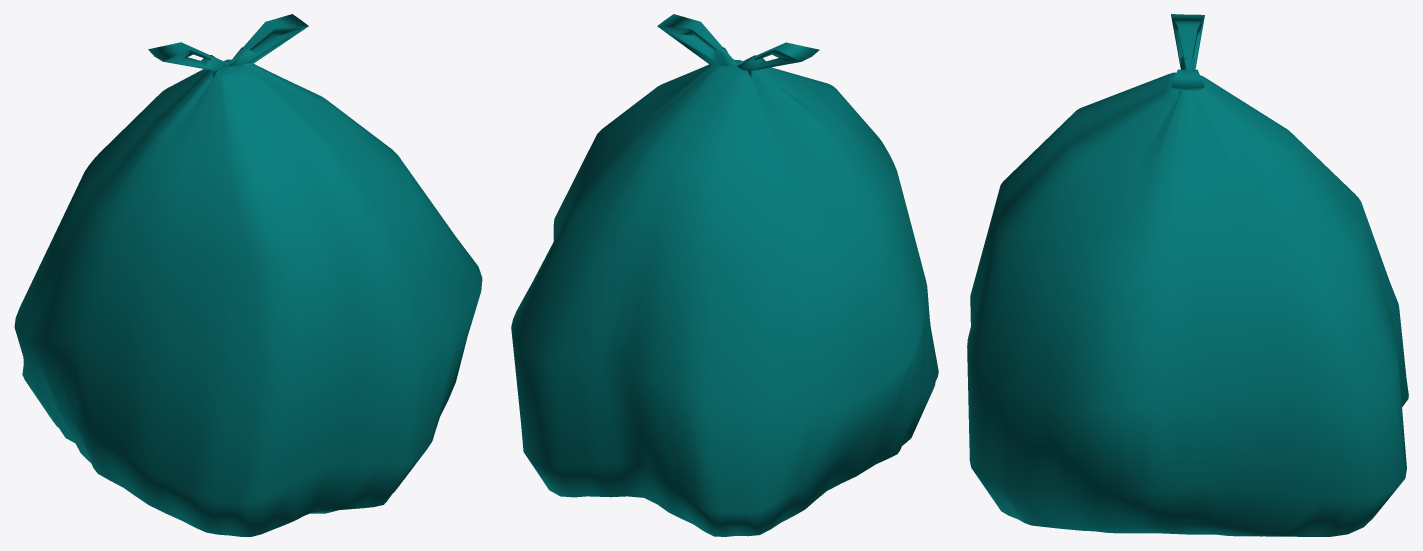
The model's file is BolsaA.fbx.
3 renders of one model, left to right at view 1: azimuth 30°, elevation 25°; view 2: azimuth 150°, elevation 25°; view 3: azimuth 270°, elevation 25°, orthographic. The views are drawn at different scales.
Visible parts, largest first — view 1: pCylinder4; view 2: pCylinder4; view 3: pCylinder4.
Part boxes in pixels (bbox=[...]): pCylinder4: bbox=[14, 14, 482, 536]; pCylinder4: bbox=[511, 14, 938, 536]; pCylinder4: bbox=[967, 14, 1408, 536].
Size of the model in its own units: 2.61 by 2.79 by 2.49.
